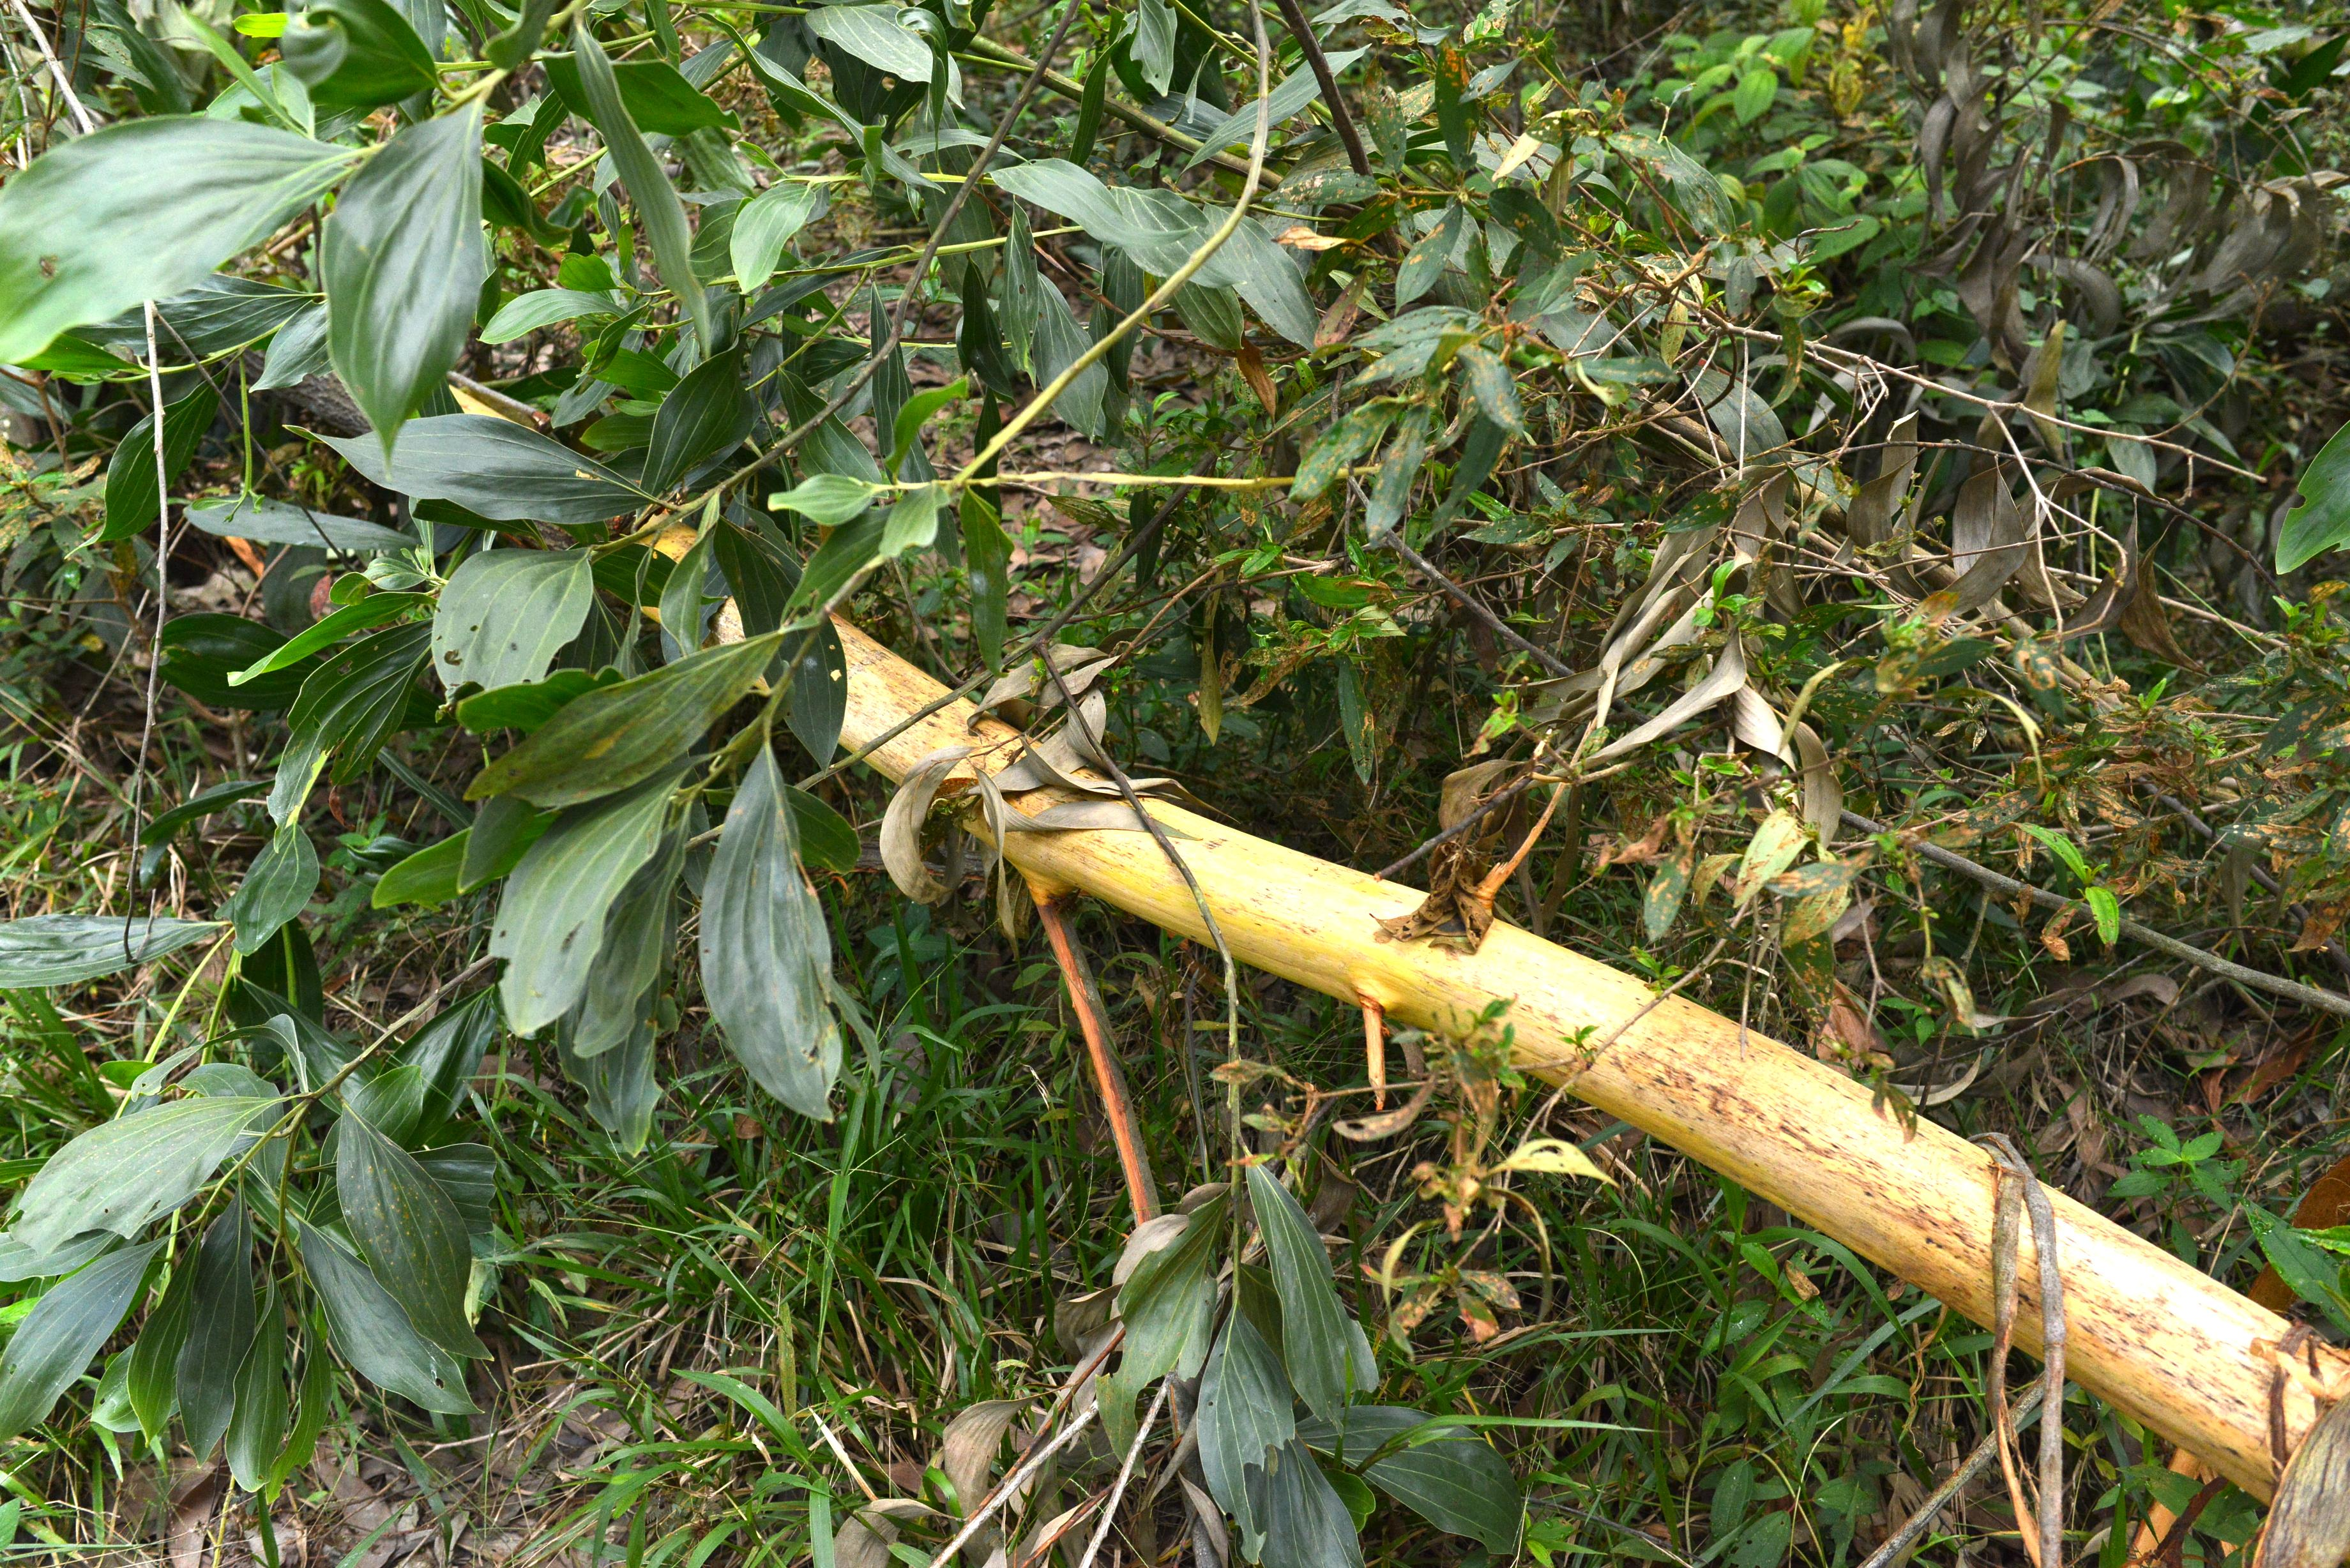Mammals Attack: (808, 611, 2350, 1538)
